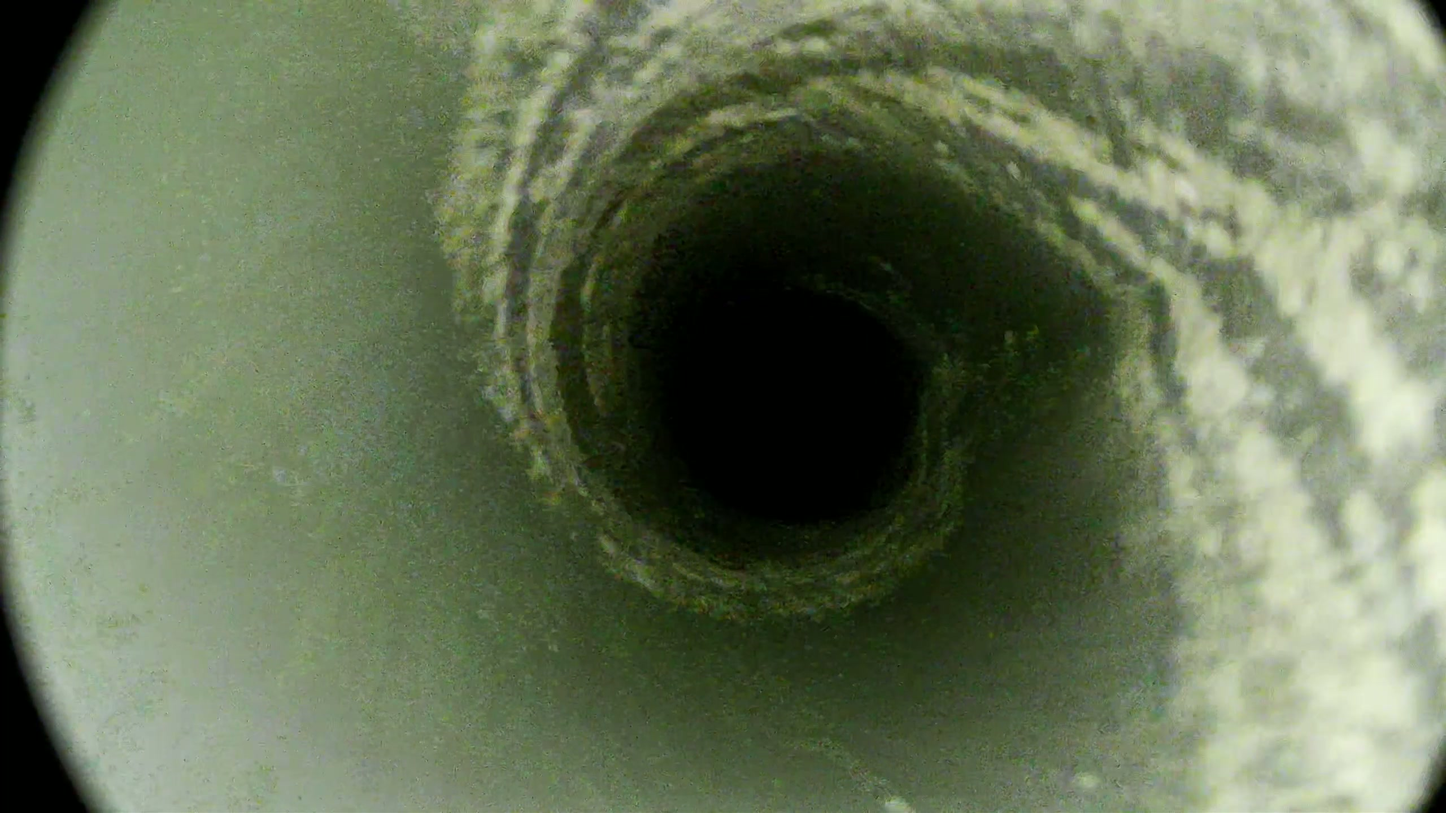hole: (673, 291, 900, 520)
